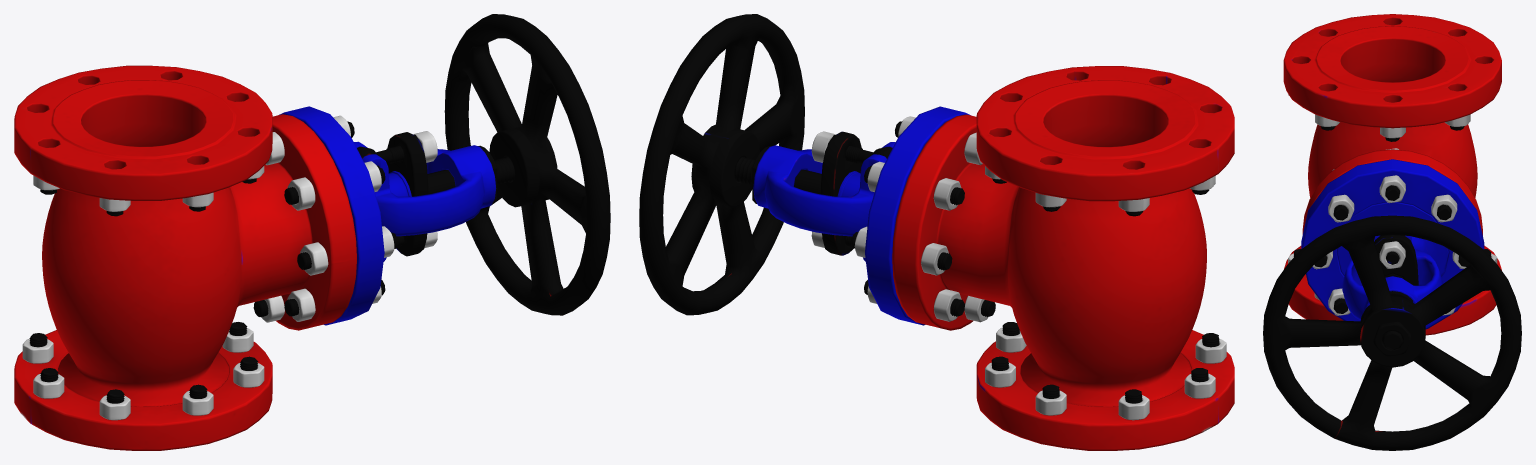
3 renders of one model, left to right at view 1: azimuth 30°, elevation 25°; view 2: azimuth 150°, elevation 25°; view 3: azimuth 270°, elevation 25°, orthographic. The views are drawn at different scales.
Parts seen in each view (by area): view 1: Industrial_Pipe_Valve_01.078, Industrial_Pipe_Valve_01.076, Industrial_Pipe_Valve_01.073, Industrial_Pipe_Valve_01.074, Industrial_Pipe_Valve_01.075, Industrial_Pipe_Valve_01.047, Industrial_Pipe_Valve_01.053, Industrial_Pipe_Valve_01.046, Industrial_Pipe_Valve_01.052, Industrial_Pipe_Valve_01.049, Industrial_Pipe_Valve_01.072, Industrial_Pipe_Valve_01.048 (+1 smaller); view 2: Industrial_Pipe_Valve_01.078, Industrial_Pipe_Valve_01.076, Industrial_Pipe_Valve_01.073, Industrial_Pipe_Valve_01.074, Industrial_Pipe_Valve_01.075, Industrial_Pipe_Valve_01.071, Industrial_Pipe_Valve_01.047, Industrial_Pipe_Valve_01.046, Industrial_Pipe_Valve_01.072, Industrial_Pipe_Valve_01.058, Industrial_Pipe_Valve_01.060, Industrial_Pipe_Valve_01.057 (+1 smaller); view 3: Industrial_Pipe_Valve_01.078, Industrial_Pipe_Valve_01.076, Industrial_Pipe_Valve_01.073, Industrial_Pipe_Valve_01.074, Industrial_Pipe_Valve_01.077, Industrial_Pipe_Valve_01.069, Industrial_Pipe_Valve_01.065, Industrial_Pipe_Valve_01.064, Industrial_Pipe_Valve_01.066, Industrial_Pipe_Valve_01.075, Industrial_Pipe_Valve_01.067.
Part boxes in pixels (x1,y1,x2,y2): Industrial_Pipe_Valve_01.078: (14, 65, 356, 450); Industrial_Pipe_Valve_01.076: (444, 14, 610, 315); Industrial_Pipe_Valve_01.073: (279, 106, 496, 325); Industrial_Pipe_Valve_01.074: (387, 132, 428, 256); Industrial_Pipe_Valve_01.075: (427, 157, 514, 194); Industrial_Pipe_Valve_01.047: (99, 395, 130, 420); Industrial_Pipe_Valve_01.053: (287, 177, 315, 210); Industrial_Pipe_Valve_01.046: (33, 374, 64, 398); Industrial_Pipe_Valve_01.052: (300, 242, 328, 275); Industrial_Pipe_Valve_01.049: (233, 362, 264, 387); Industrial_Pipe_Valve_01.072: (22, 338, 53, 363); Industrial_Pipe_Valve_01.048: (182, 391, 213, 415); Industrial_Pipe_Valve_01.078: (892, 66, 1234, 450); Industrial_Pipe_Valve_01.076: (639, 14, 804, 315); Industrial_Pipe_Valve_01.073: (753, 106, 970, 325); Industrial_Pipe_Valve_01.074: (820, 131, 862, 255); Industrial_Pipe_Valve_01.075: (734, 157, 821, 194); Industrial_Pipe_Valve_01.071: (1035, 390, 1066, 415); Industrial_Pipe_Valve_01.047: (1195, 338, 1226, 363); Industrial_Pipe_Valve_01.046: (1184, 373, 1215, 398); Industrial_Pipe_Valve_01.072: (1118, 395, 1149, 420); Industrial_Pipe_Valve_01.058: (933, 289, 961, 321); Industrial_Pipe_Valve_01.060: (933, 178, 961, 210); Industrial_Pipe_Valve_01.057: (921, 243, 948, 275); Industrial_Pipe_Valve_01.078: (1283, 14, 1501, 335); Industrial_Pipe_Valve_01.076: (1263, 215, 1521, 450); Industrial_Pipe_Valve_01.073: (1301, 159, 1484, 329); Industrial_Pipe_Valve_01.074: (1374, 235, 1418, 285); Industrial_Pipe_Valve_01.077: (1373, 321, 1411, 356); Industrial_Pipe_Valve_01.069: (1379, 241, 1405, 268); Industrial_Pipe_Valve_01.065: (1379, 175, 1405, 202); Industrial_Pipe_Valve_01.064: (1431, 194, 1457, 222); Industrial_Pipe_Valve_01.066: (1328, 194, 1354, 222); Industrial_Pipe_Valve_01.075: (1382, 273, 1403, 350); Industrial_Pipe_Valve_01.067: (1328, 288, 1350, 315).
Bounding box in the file's own units: 1.2 × 0.6172 × 0.6166.
1 material, 1 textured.
